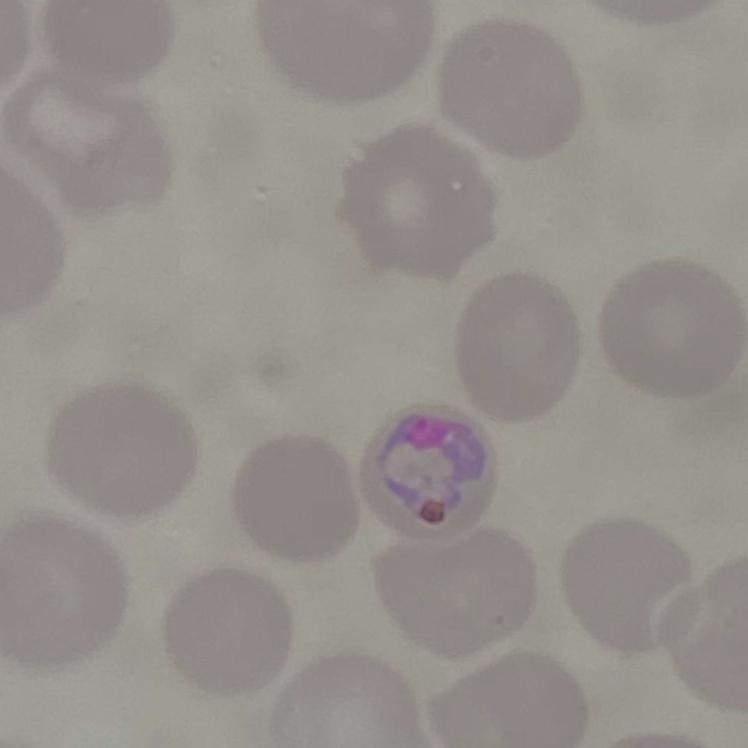Infected: (358, 405, 494, 543)
Uninfected: (0, 71, 173, 216), (346, 123, 495, 279), (56, 383, 193, 527), (0, 519, 122, 677), (372, 529, 526, 654), (438, 21, 575, 160), (604, 261, 748, 392), (566, 515, 695, 654), (258, 0, 442, 95), (464, 267, 579, 415), (164, 565, 291, 698), (226, 437, 355, 562), (434, 649, 586, 748), (658, 555, 748, 713), (274, 655, 419, 748), (42, 0, 177, 81)
